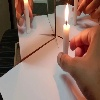fire: (64, 3, 69, 26)
